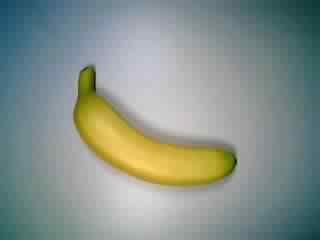banana: (73, 67, 238, 188)
